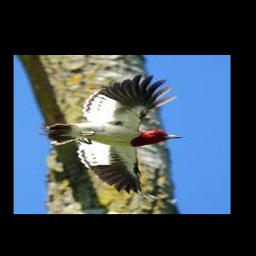Woodpecker: (40, 75, 182, 199)
